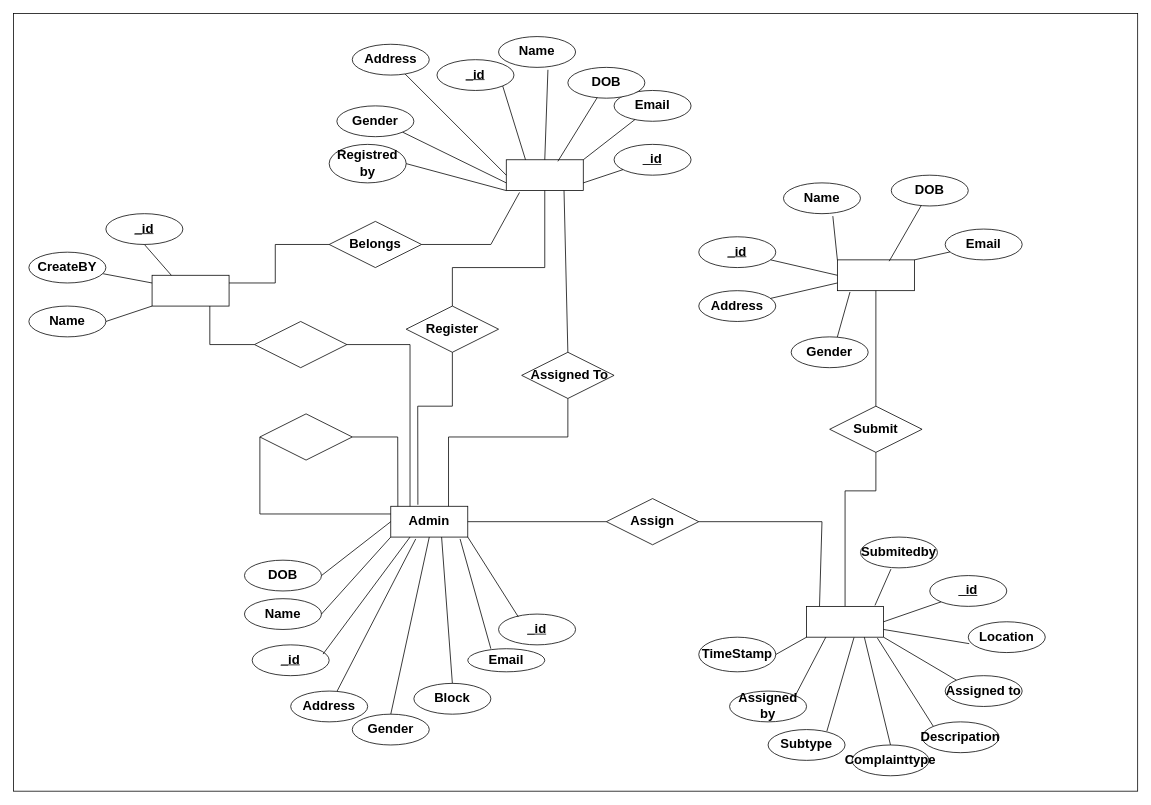
Some shapes in this 1151 by 805 pixel diagram are drawn without their labels. The shapes that lost their labels are listed below. From the top down, each one's box as (x1, y1, x2, y2) in pixels, then its label:
(506, 159, 583, 191): Worker
(151, 275, 229, 306): Department
(837, 259, 914, 291): User
(254, 321, 347, 368): Created by
(259, 413, 352, 460): Create
(806, 606, 884, 637): Complaint
